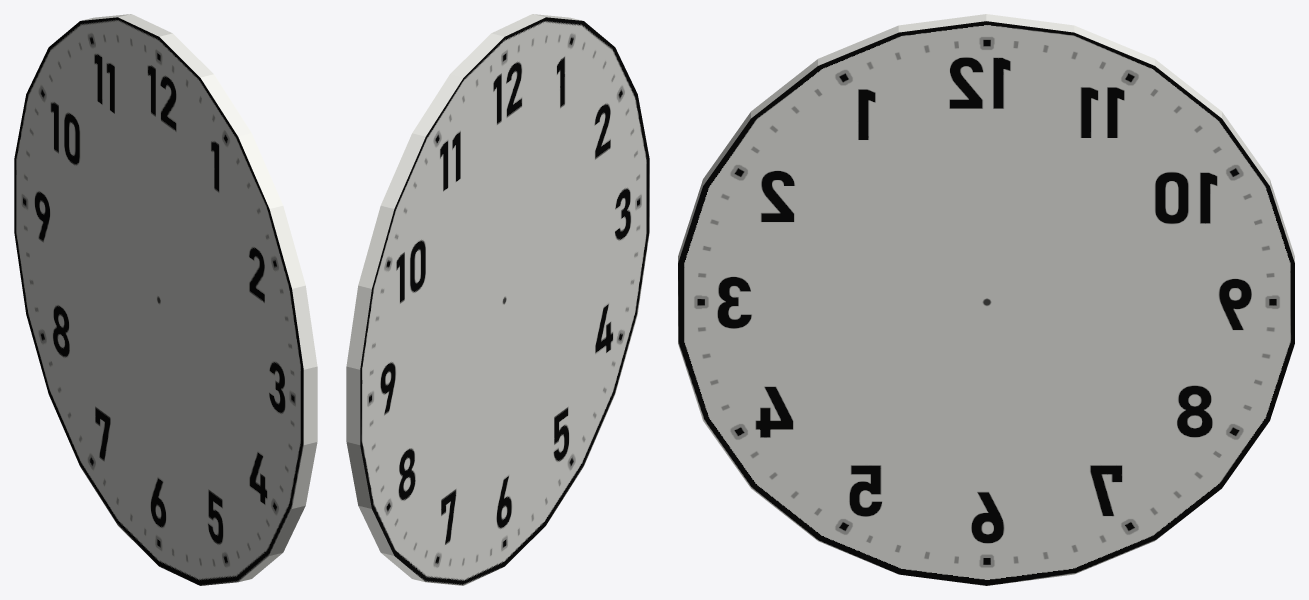
File: Clock Face Whole.fbx
The picture shows the model from 3 angles, left to right: view 1: azimuth 30°, elevation 25°; view 2: azimuth 150°, elevation 25°; view 3: azimuth 270°, elevation 25°; orthographic projection. The views are drawn at different scales.
Visible parts, largest first — view 1: Clock Face whole; view 2: Clock Face whole; view 3: Clock Face whole.
Part boxes in pixels (x1,y1,x2,y2): Clock Face whole: (14, 14, 317, 585); Clock Face whole: (346, 14, 649, 585); Clock Face whole: (678, 14, 1294, 585).
Bounding box in the file's own units: 0.0348 × 1.28 × 1.27.
Materials: 1 (1 with a texture image).
